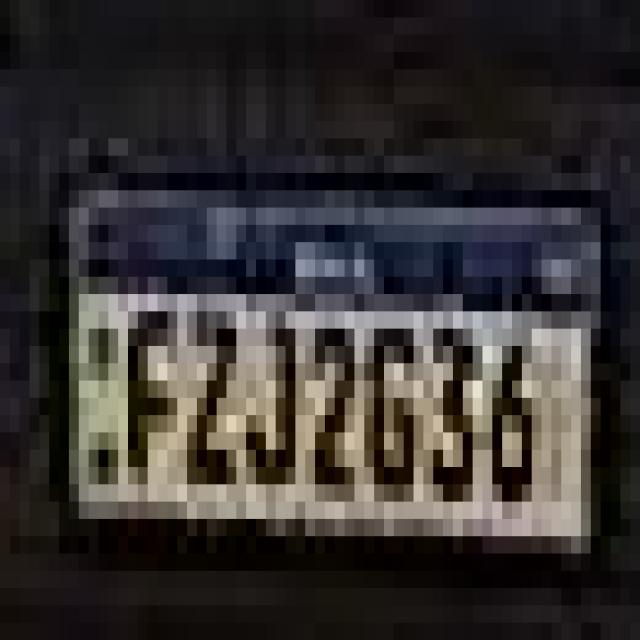3: (428, 313, 483, 501)
6: (489, 322, 546, 510)
F: (127, 302, 190, 486)
G: (364, 319, 426, 501)
J: (252, 306, 302, 488)
Z: (185, 304, 249, 493)
